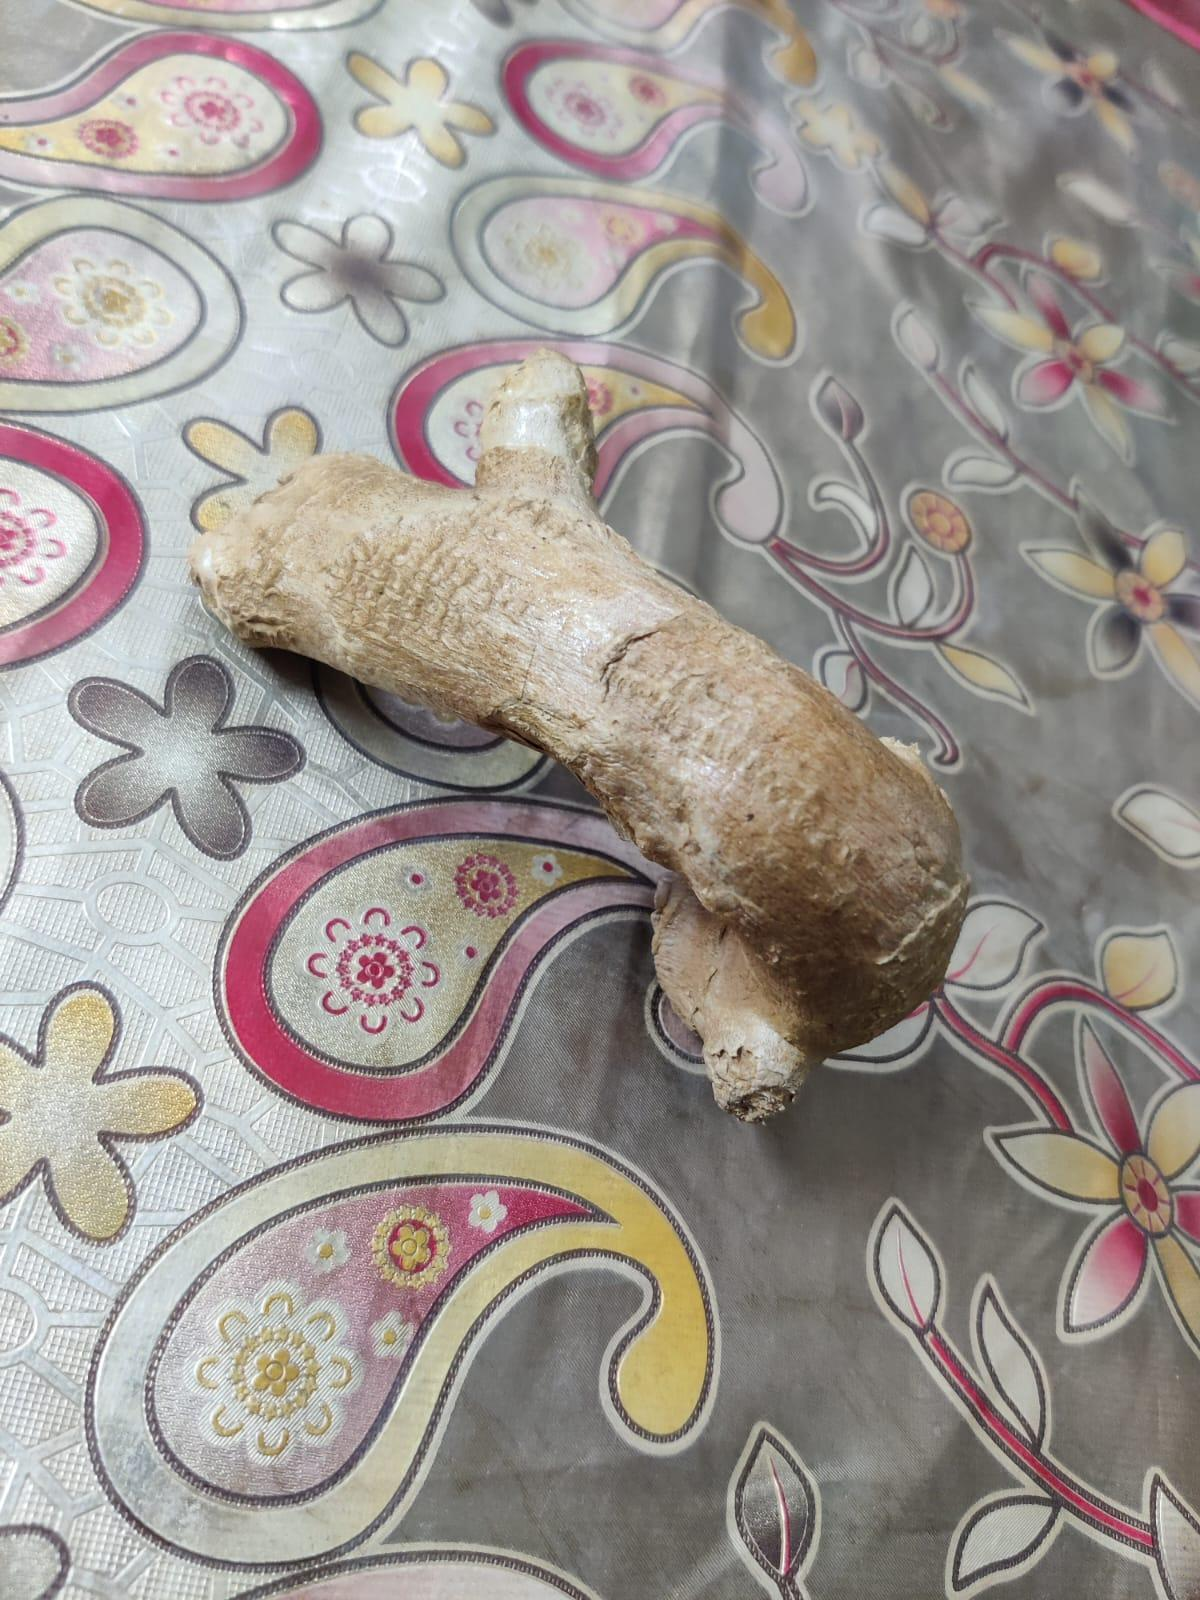non-mango: (166, 456, 979, 1117)
